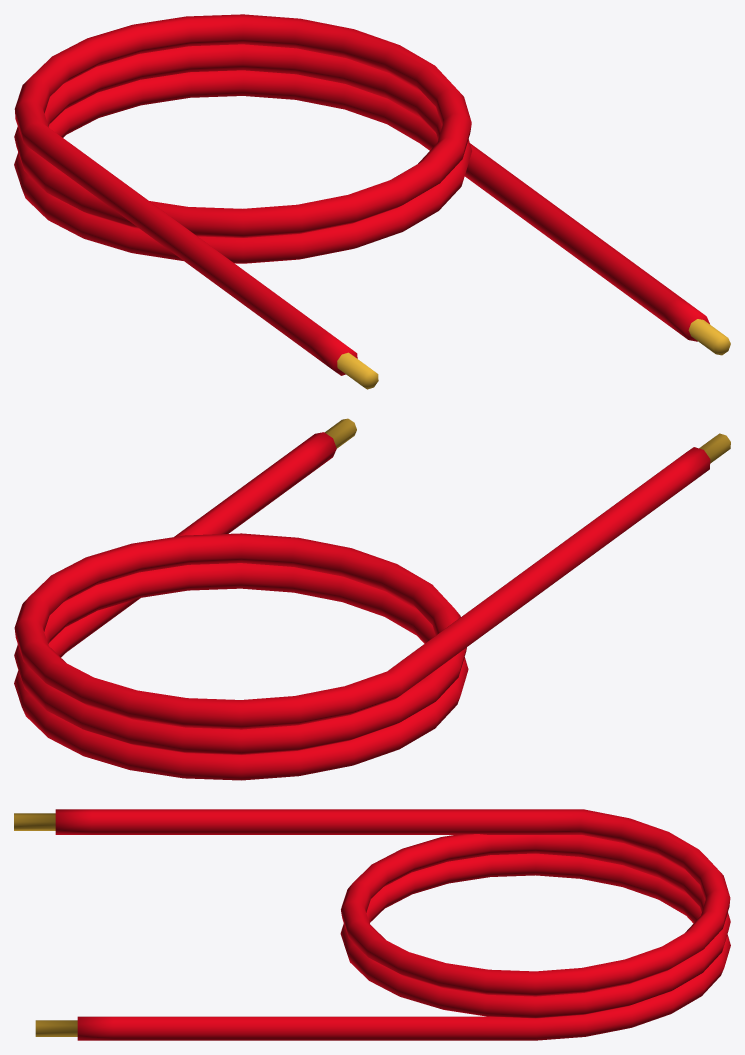
File: SpoolTool.fbx
The picture shows the model from 3 angles, top to bottom: view 1: azimuth 30°, elevation 25°; view 2: azimuth 150°, elevation 25°; view 3: azimuth 270°, elevation 25°; orthographic projection. The views are drawn at different scales.
Visible parts, largest first — view 1: SpoolTool; view 2: SpoolTool; view 3: SpoolTool.
Boxes of the visible parts, x1,y1,x2,y2 form: SpoolTool: [14, 14, 730, 389]; SpoolTool: [14, 418, 730, 780]; SpoolTool: [14, 809, 730, 1040].
Size of the model in its own units: 2.14 by 0.4678 by 3.93.
